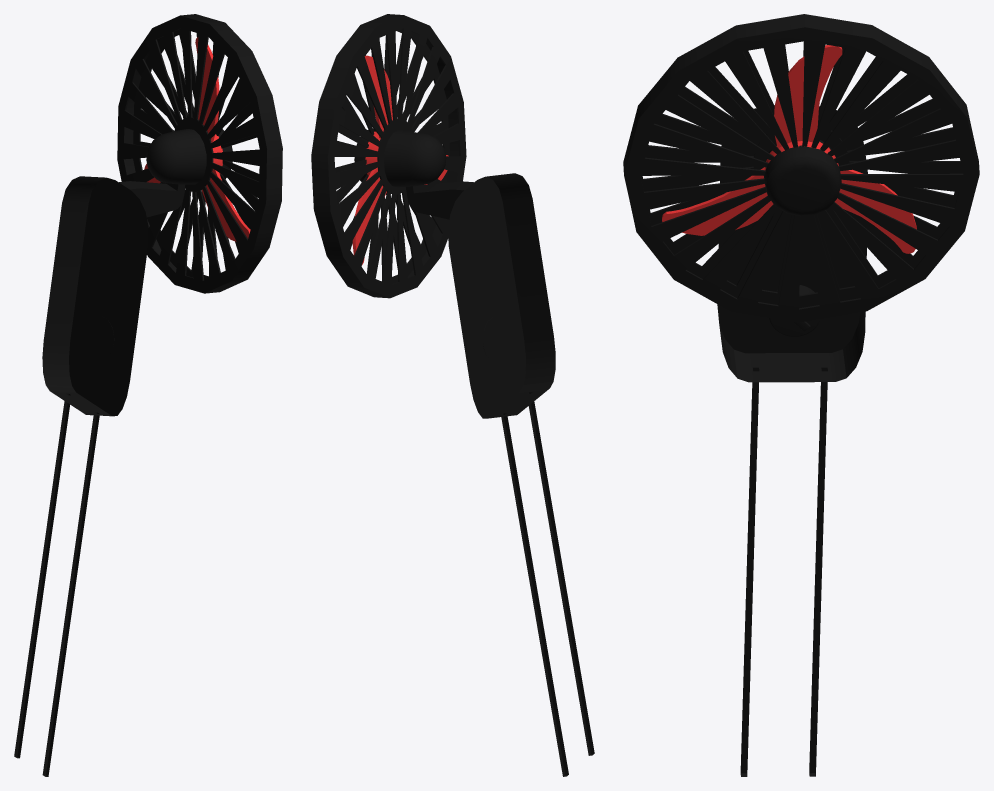
Rendered from quat_treo_tuong.fbx.
3 views of the same model, side by side, from view 1: azimuth 30°, elevation 25°; view 2: azimuth 150°, elevation 25°; view 3: azimuth 270°, elevation 25° (orthographic). The views are drawn at different scales.
Visible parts, largest first — view 1: fan; view 2: fan; view 3: fan.
Part boxes in pixels (box(x1,y1,x2,y2)): fan: box(14, 14, 282, 776); fan: box(311, 14, 594, 776); fan: box(623, 14, 979, 776).
Bounding box in the file's own units: 110 × 349 × 128.
Materials: 2 (2 with a texture image).
